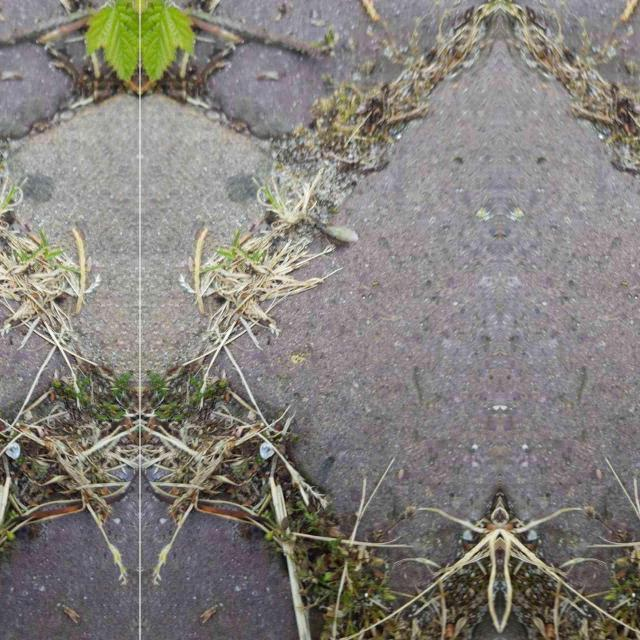Lasius: (304, 216, 362, 250)
